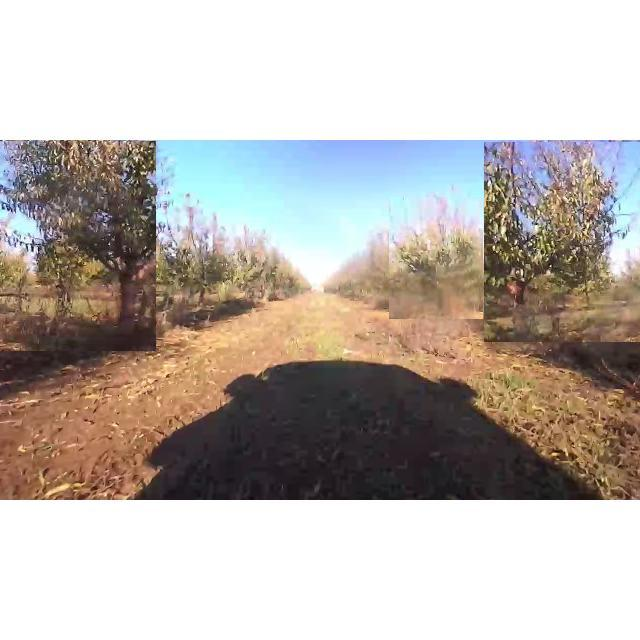direk: (0, 141, 156, 351), (484, 142, 640, 342), (126, 198, 240, 324), (389, 197, 483, 319)
